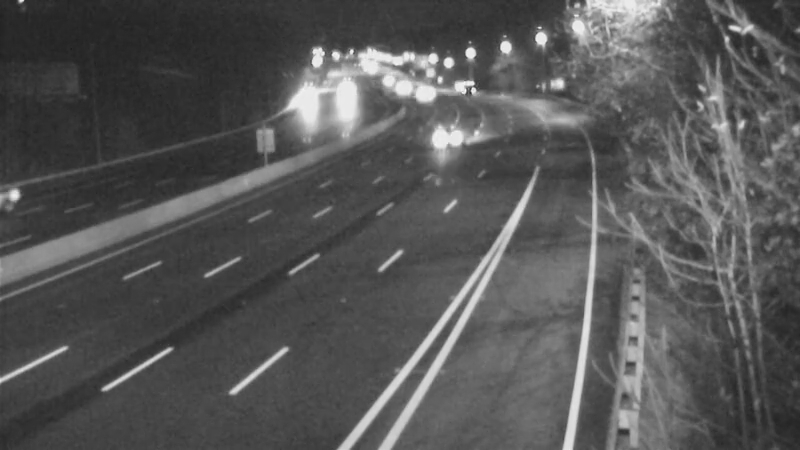vehicle: (435, 61, 485, 111), (375, 60, 425, 110), (399, 67, 449, 117), (419, 115, 469, 165)
